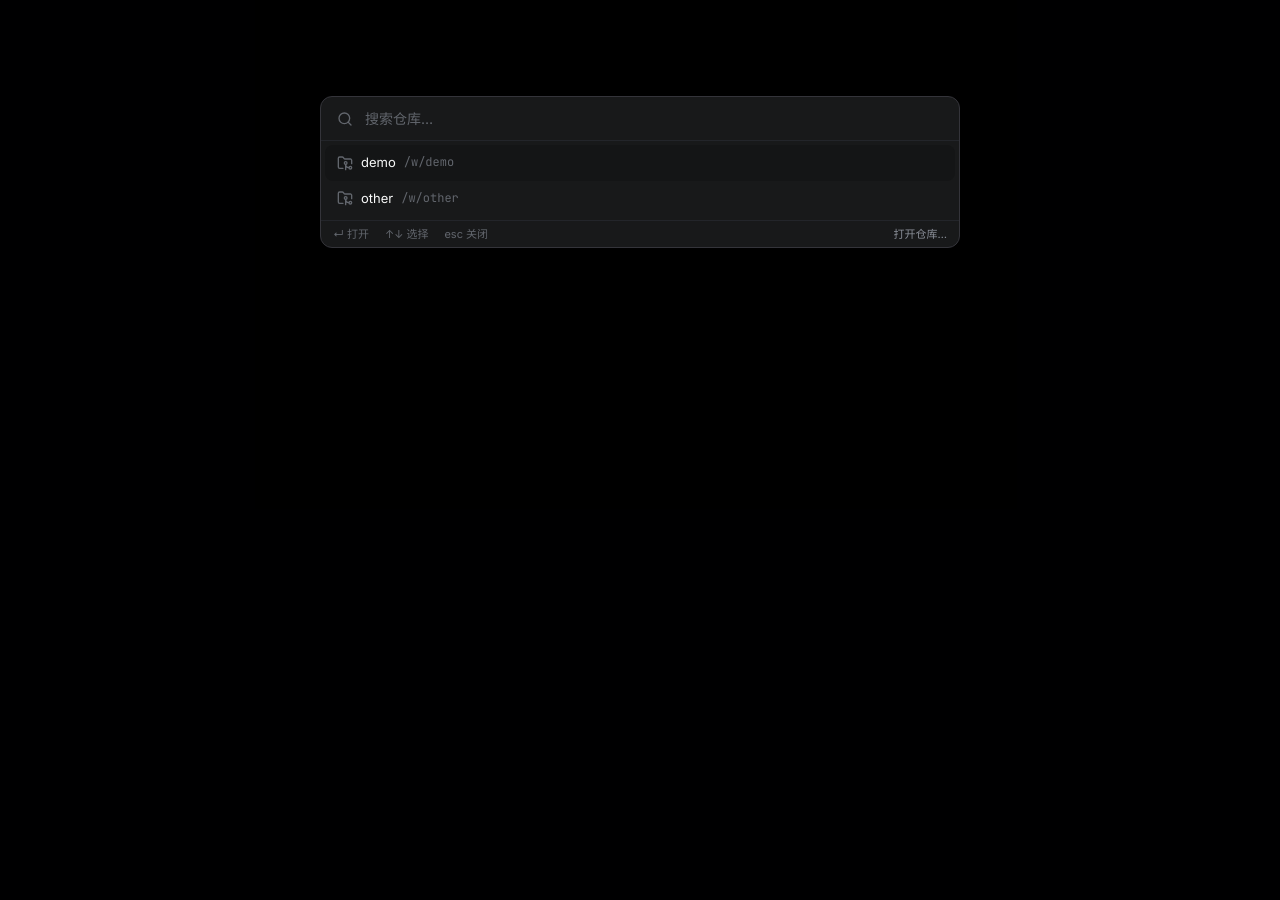
Test: QuickSwitcher › lists open repos first then recents, filters by query
The width and height of the screenshot is (1280, 900).
Expected: the text "demo" is shown, [361,153,396,172]
Expected: the text "other" is shown, [361,188,393,208]
Type "oth" into the field at coordinates (654, 118), box [365,97,943,140]
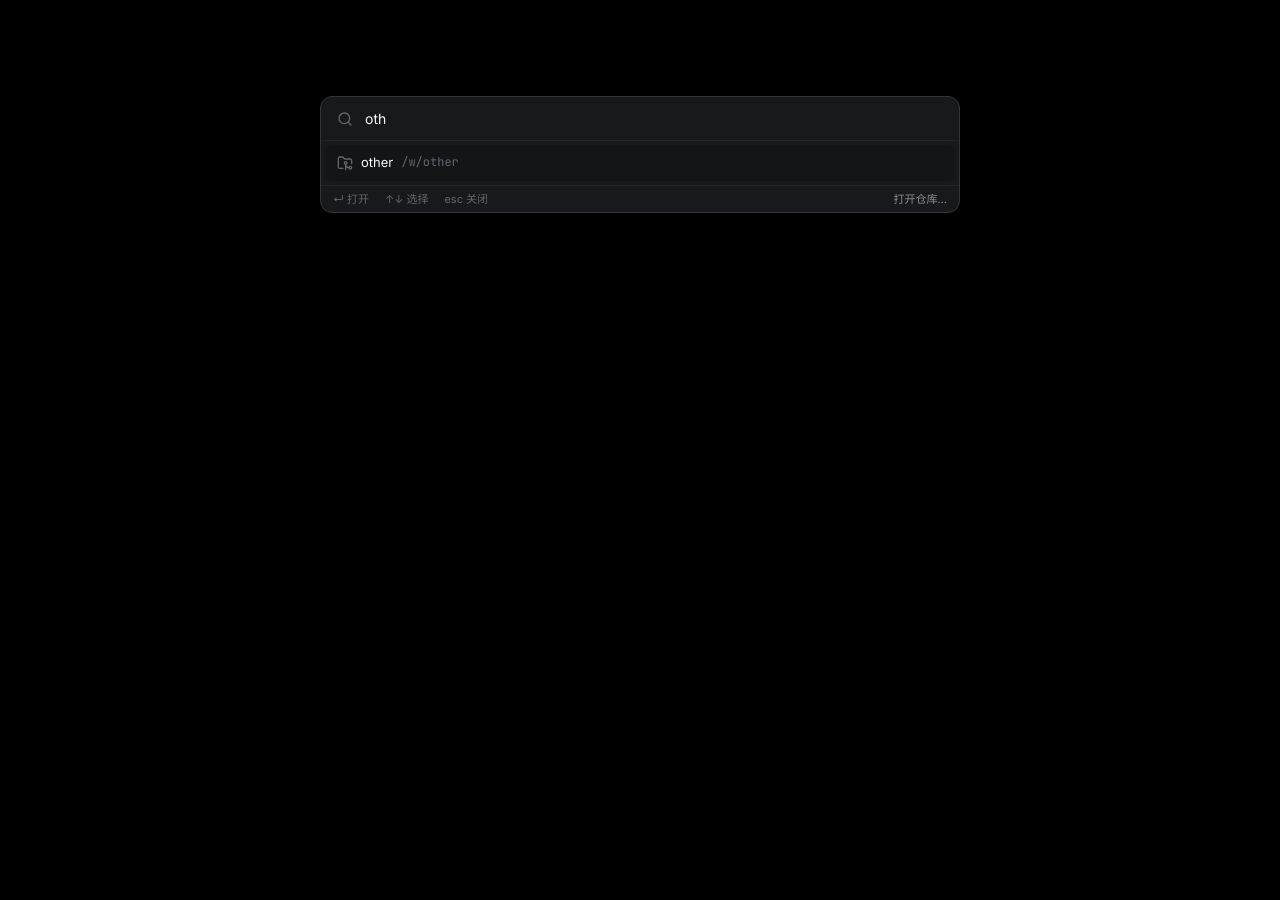
Expected: the text "other" is shown, [361,153,393,172]
Expected: the button "demo" is gone
